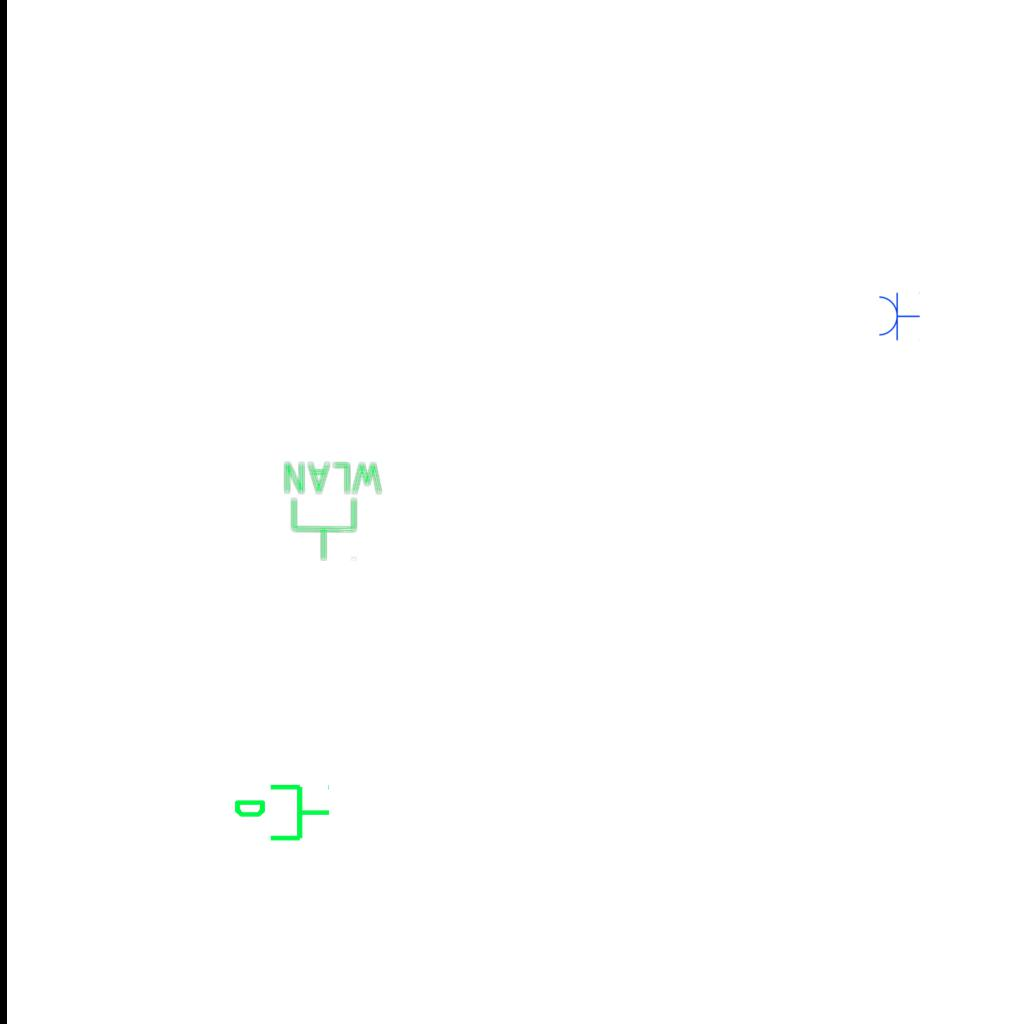Datenanschluss_einfach: (232, 780, 332, 849)
Schukosteckdose_einfach: (877, 291, 920, 341)
WLAN: (281, 459, 386, 563)
